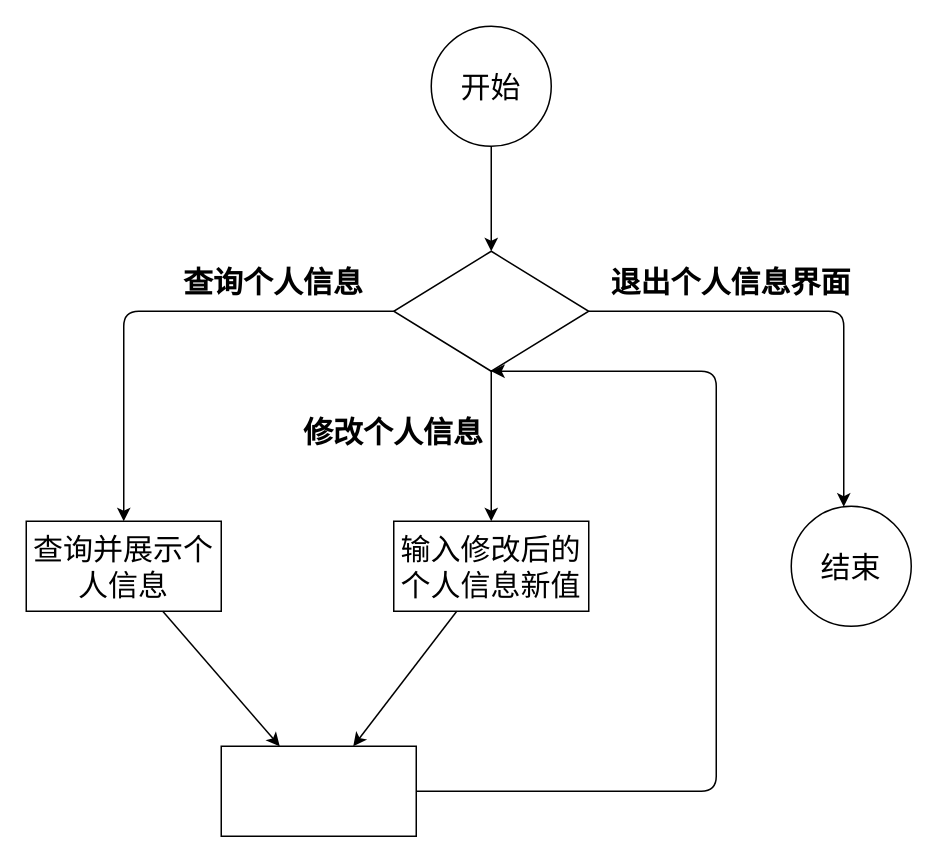
This 938x863 diagram has some shape labels left out. Here are the shapes that lost their labels. From the top down, the centre of each, then its label:
(490,310): 顾客选择操作
(318,790): 刷新并展示个人信息
